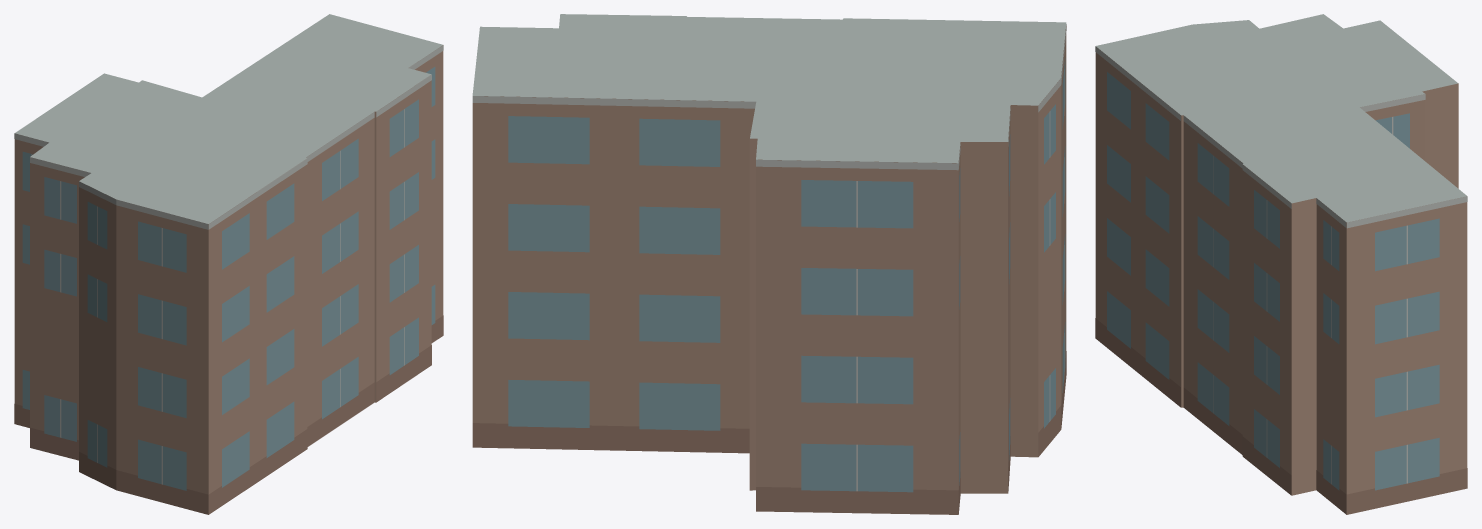
File: survey-upis-32835538.glb
3 renders of one model, left to right at view 1: azimuth 30°, elevation 25°; view 2: azimuth 150°, elevation 25°; view 3: azimuth 270°, elevation 25°, orthographic. The views are drawn at different scales.
Visible parts, largest first — view 1: survey-upis-32835538.tmp; view 2: survey-upis-32835538.tmp; view 3: survey-upis-32835538.tmp.
Boxes of the visible parts, left/top/right/bottom form: survey-upis-32835538.tmp: left=14, top=14, right=443, bottom=514; survey-upis-32835538.tmp: left=472, top=14, right=1066, bottom=514; survey-upis-32835538.tmp: left=1095, top=14, right=1467, bottom=514.
Size of the model in its own units: 18.68 by 12.2 by 14.08.
